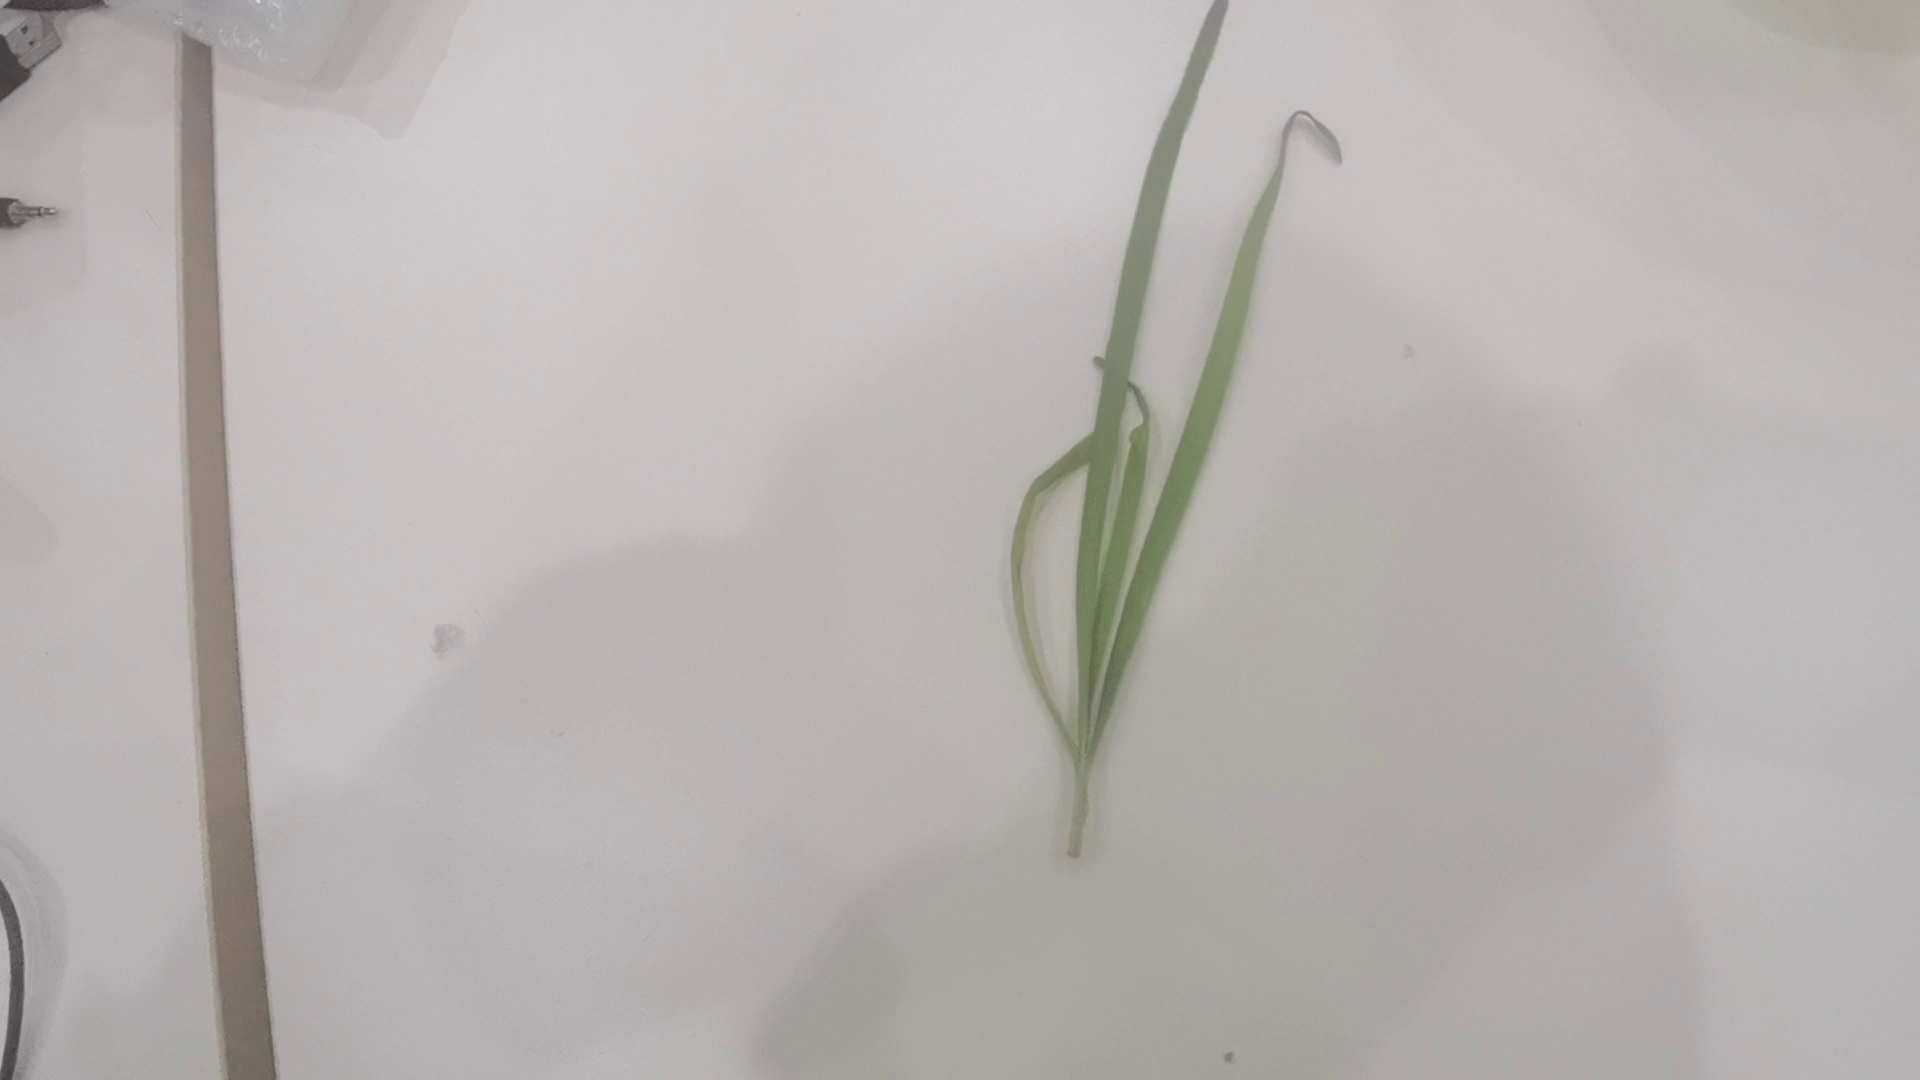chives: (1005, 4, 1346, 887)
